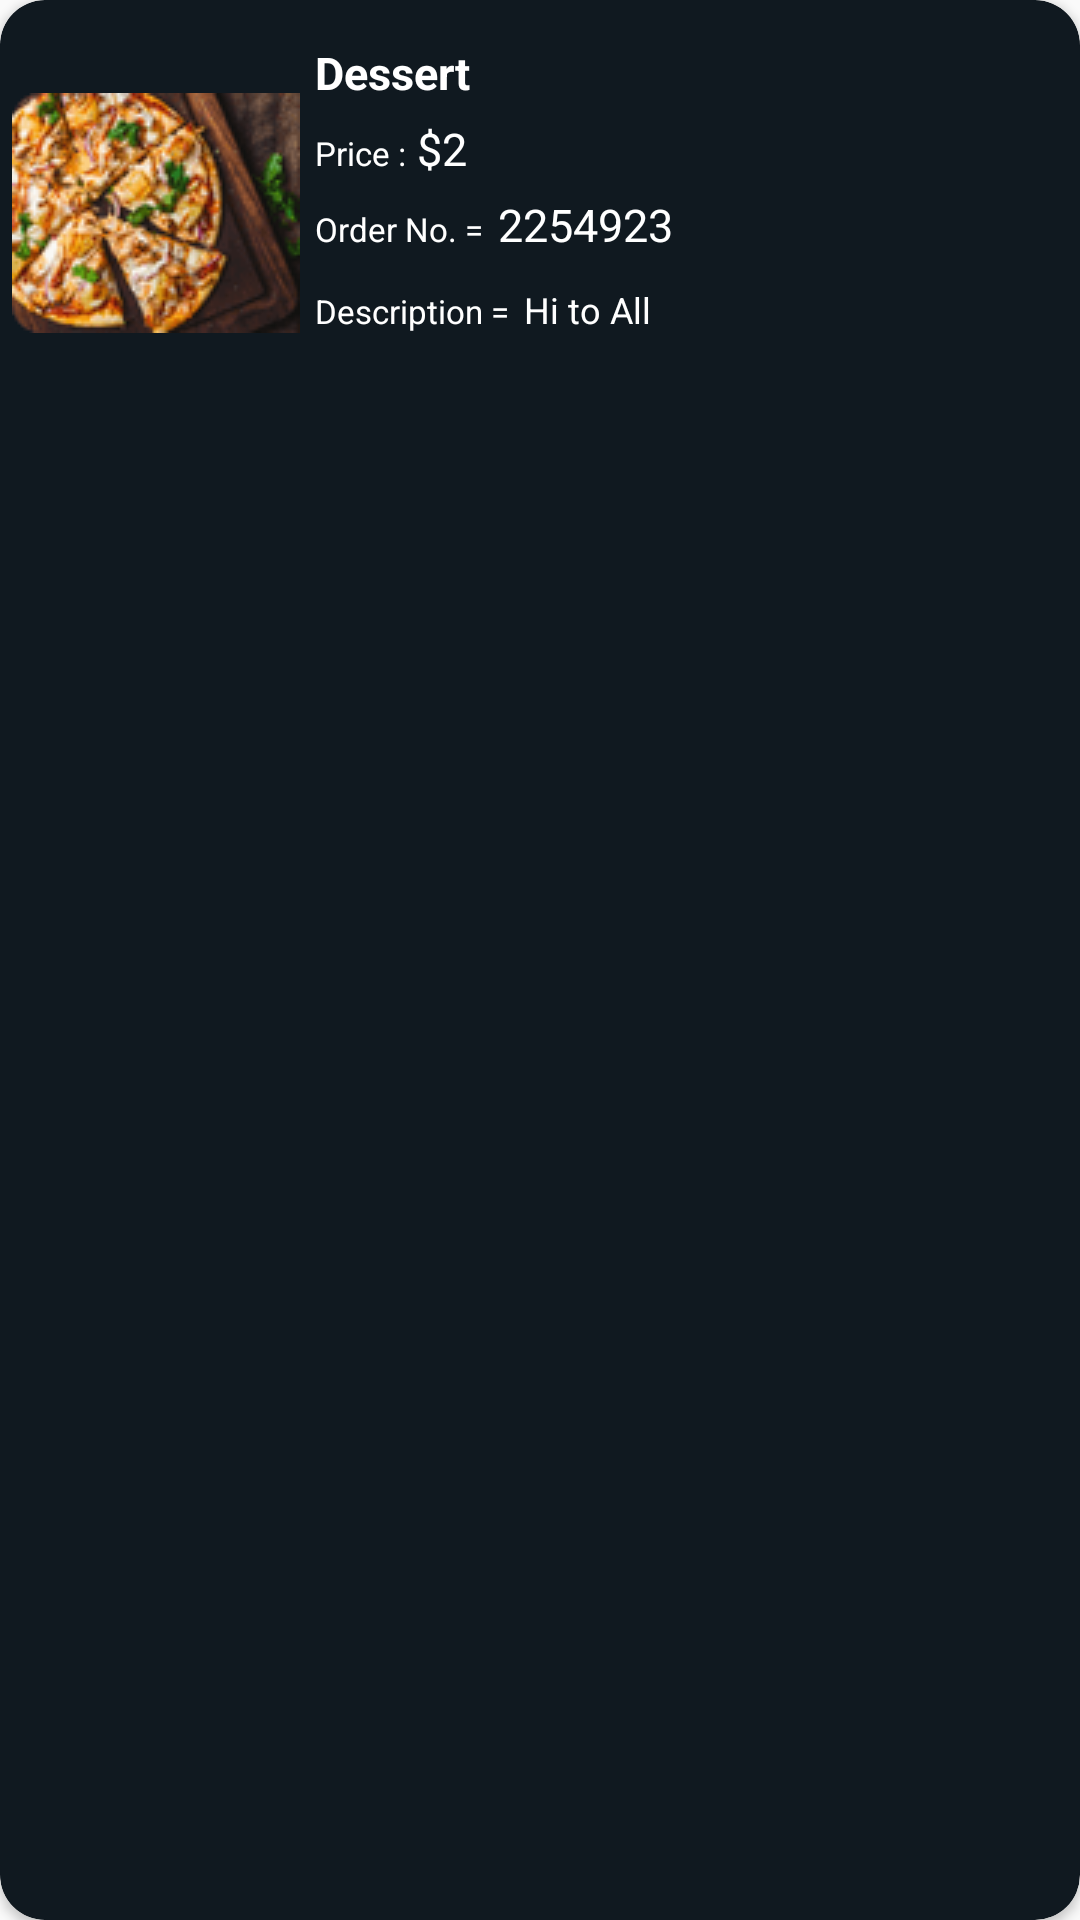

Where to tap for icons on this 1080 × 1920 app screen, as [x,y]:
pizza: [156,213]
